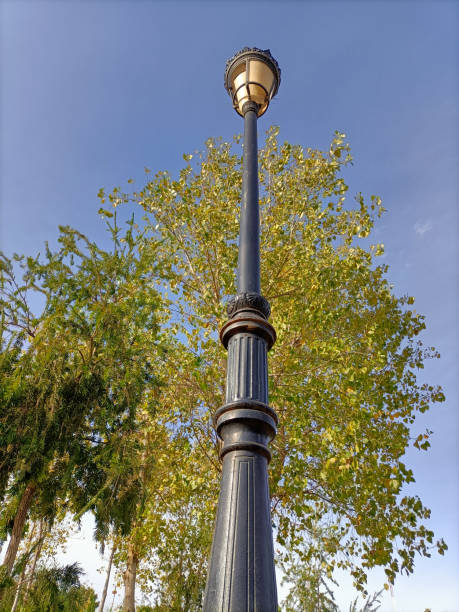light_pole: (200, 114, 278, 612)
